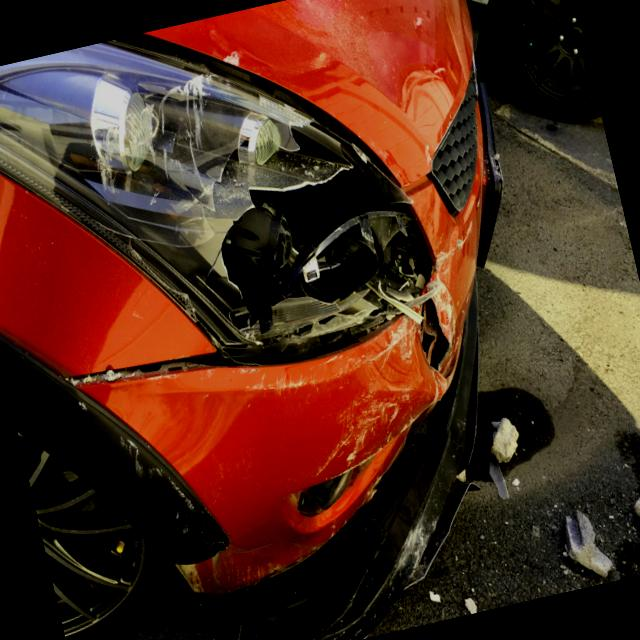Dechirure: (63, 286, 472, 462), (285, 447, 428, 555)
Phare abime: (124, 53, 442, 351)
Rayure: (232, 323, 453, 485)
